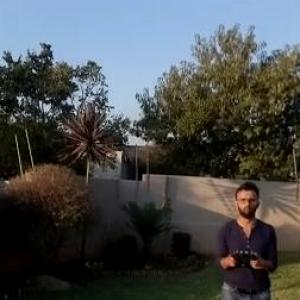follow: (213, 177, 281, 299)
